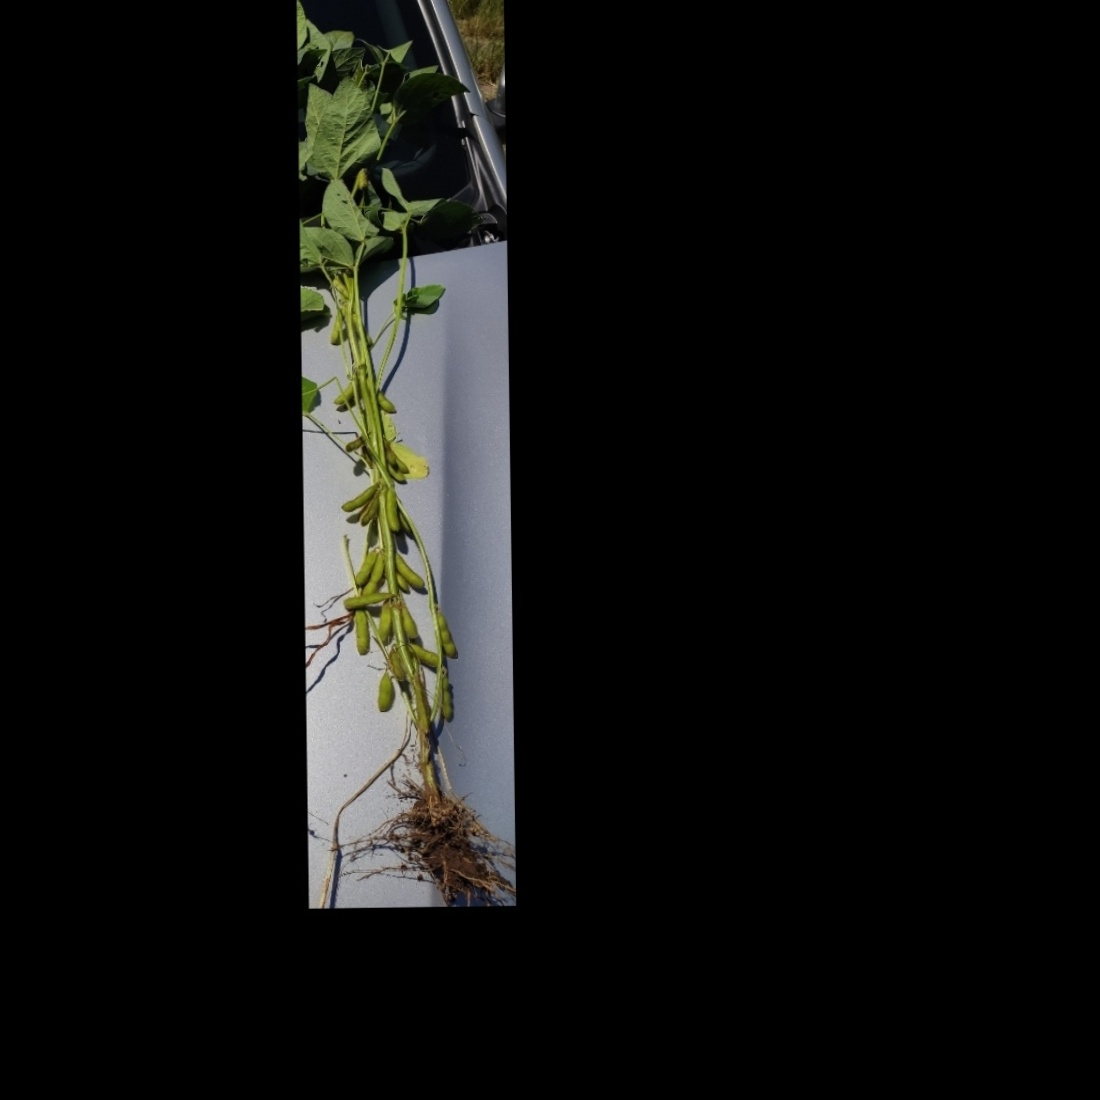pod: (393, 547, 427, 595), (353, 543, 383, 587), (436, 604, 458, 665), (353, 602, 373, 660), (335, 592, 399, 608), (338, 484, 376, 511), (375, 666, 394, 717), (385, 482, 402, 537), (400, 599, 422, 641), (440, 670, 454, 728)
soy: (296, 5, 512, 911)
